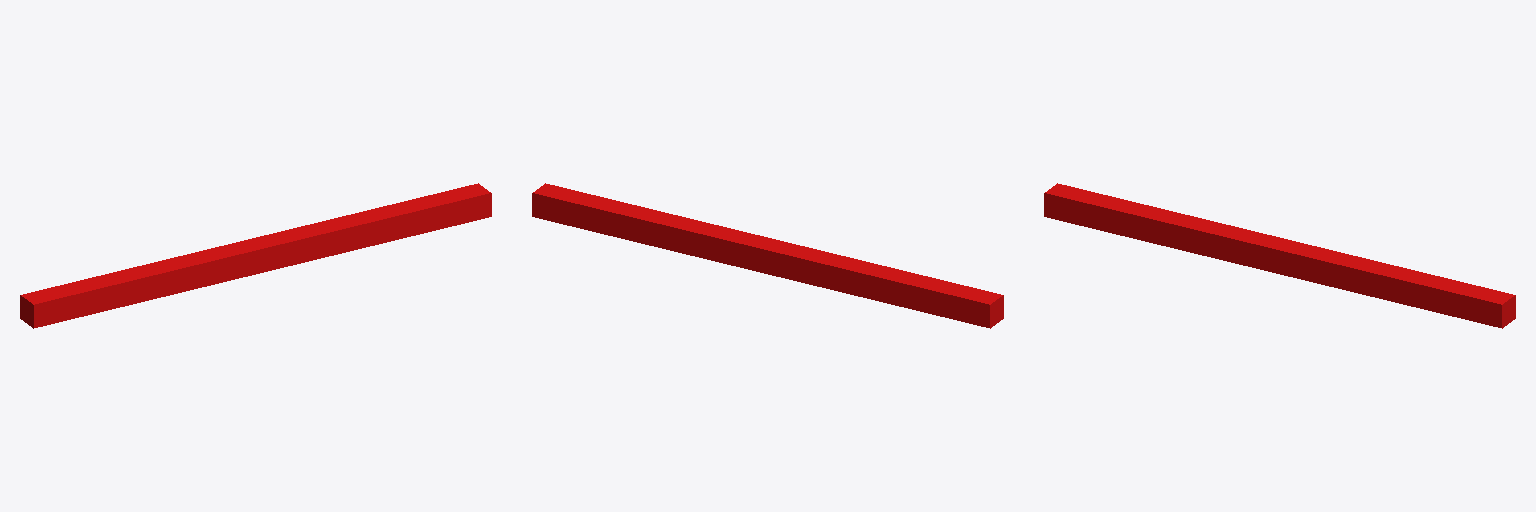
URDF robot description (lbr_iiwa):
<?xml version="1.0" ?>
<robot name="lbr_iiwa">
    <link name="world" />    

    <link name="link1">
    <inertial>
      <origin rpy="0 0 0" xyz="0.5 0 0"/>
      <mass value="1"/>
      <inertia ixx="0.05" ixy="0" ixz="0" iyy="0.06" iyz="0" izz="0.03"/>
    </inertial>
    <visual>
      <origin rpy="0 0 0" xyz="0.5 0 0"/>
      <geometry>
        <box size="1 0.15 0.15"/>
      </geometry>
      <material name="red">
        <color rgba=".9 .1 .1 1"/>
      </material>
    </visual>
    <collision>
      <origin rpy="0 0 0" xyz="0.5 0 0"/>
      <geometry>
        <box size="1 0.15 0.15"/>
      </geometry>
      <material name="Grey"/>
    </collision>    
  </link>    

    <link name="link2">
    <inertial>
      <origin rpy="0 0 0" xyz="0.5 0 0"/>
      <mass value="1"/>
      <inertia ixx="0.05" ixy="0" ixz="0" iyy="0.06" iyz="0" izz="0.03"/>
    </inertial>
    <visual>
      <origin rpy="0 0 0" xyz="0.5 0 0"/>
      <geometry>
        <box size="1 0.15 0.15"/>
      </geometry>
      <material name="red">
        <color rgba=".9 .1 .1 1"/>
      </material>
    </visual>
    <collision>
      <origin rpy="0 0 0" xyz="0.5 0 0"/>
      <geometry>
        <box size="1 0.15 0.15"/>
      </geometry>
      <material name="Grey"/>
    </collision>    
  </link>

   <link name="link3">
    <inertial>
      <origin rpy="0 0 0" xyz="0.5 0 0"/>
      <mass value="1"/>
      <inertia ixx="0.05" ixy="0" ixz="0" iyy="0.06" iyz="0" izz="0.03"/>
    </inertial>
    <visual>
      <origin rpy="0 0 0" xyz="0.5 0 0"/>
      <geometry>
        <box size="1 0.15 0.15"/>
      </geometry>
      <material name="red">
        <color rgba=".9 .1 .1 1"/>
      </material>
    </visual>
    <collision>
      <origin rpy="0 0 0" xyz="0.5 0 0"/>
      <geometry>
        <box size="1 0.15 0.15"/>
      </geometry>
      <material name="Grey"/>
    </collision>    
  </link>

  <link name="end_effector">
    <collision>
      <origin rpy="0 0 0" xyz="0 0 0"/>
      <geometry>
        <box size="0 0 0"/>
      </geometry>
      <material name="Grey"/>
    </collision>
  </link>   

  <joint name="joint1" type="revolute">
    <parent link="world"/>
    <child link="link1"/>
    <origin rpy="0 0 0" xyz="0 0 5"/>
    <axis xyz="0 0 1"/>
    <limit effort="150" lower="-3.14159265358979323846" upper="3.14159265358979323846" velocity="10"/>    
    <dynamics damping="5.0"/>
  </joint>

  <joint name="joint2" type="revolute">
    <parent link="link1"/>
    <child link="link2"/>
    <origin rpy="-1.57079632679489661923 0 0" xyz="1 0 0"/>
    <axis xyz="0 0 1"/>
    <limit effort="70" lower="-3.14159265358979323846" upper="3.14159265358979323846" velocity="10"/>    
    <dynamics damping="5.0"/>
  </joint>

  <joint name="joint3" type="revolute">
    <parent link="link2"/>
    <child link="link3"/>
    <origin rpy="0 0 0" xyz="1 0 0"/>
    <axis xyz="0 0 1"/>
    <limit effort="60" lower="-3.14159265358979323846" upper="3.14159265358979323846" velocity="10"/>    
    <dynamics damping="5.0"/>
  </joint>

  <joint name="joint4" type="fixed">    
    <parent link="link3"/>
    <child link="end_effector"/>
    <origin rpy="1.57079632679489661923 0 0" xyz="1 0 0"/>
    <axis xyz="0 0 1"/>
    <limit effort="40" lower="-3.14159265358979323846" upper="3.14159265358979323846" velocity="10"/>    
    <dynamics damping="5.0"/>
  </joint>
  
  

    
</robot>

--- Facts derived from the render (not from the file) ---
Views: 3 orthographic renders of the robot side by side, from view 1: azimuth 30°, elevation 25°; view 2: azimuth 150°, elevation 25°; view 3: azimuth 330°, elevation 25°.
Model lbr_iiwa with 5 links and 4 joints (3 revolute, 1 fixed), rooted at world, posed every joint at zero.
Links seen in each view (by area): view 1: link1, link3, link2; view 2: link1, link3, link2; view 3: link3, link1, link2.
Boxes of the visible links, <box> form: link1: <box>20,258,185,328</box>; link3: <box>326,183,491,253</box>; link2: <box>174,221,338,290</box>; link1: <box>838,258,1003,328</box>; link3: <box>532,183,697,253</box>; link2: <box>685,221,849,290</box>; link3: <box>1350,258,1515,328</box>; link1: <box>1044,183,1209,253</box>; link2: <box>1197,221,1361,290</box>.
Size in the robot's own frame: 3 by 0.15 by 0.15 metres.
Geometry: primitives only (box / cylinder / sphere), no mesh files.
